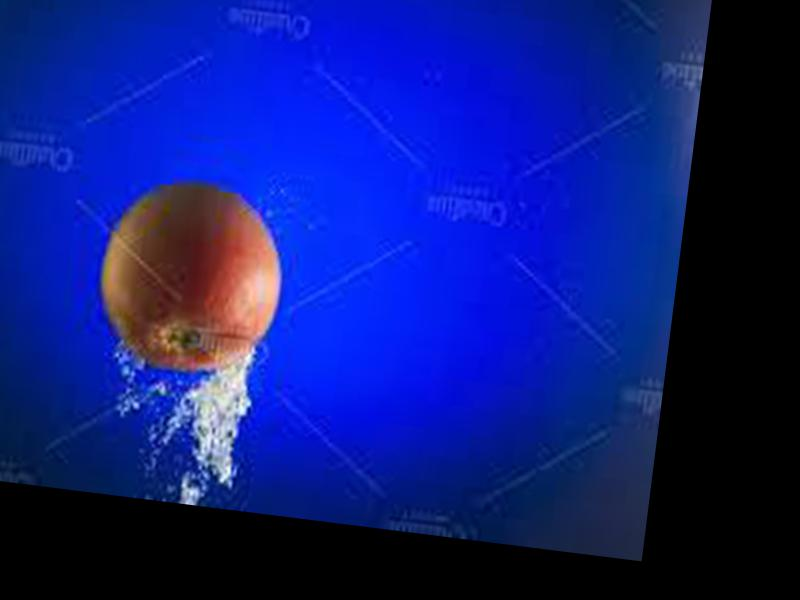Tomato: (88, 177, 290, 381)
